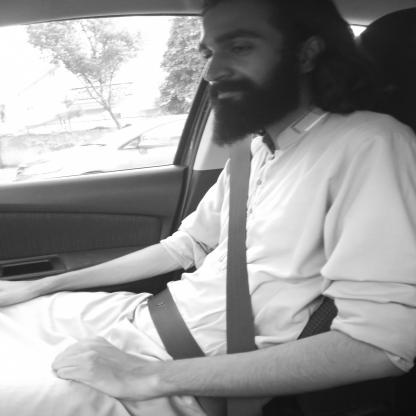seatbelt: (188, 1, 384, 302)
